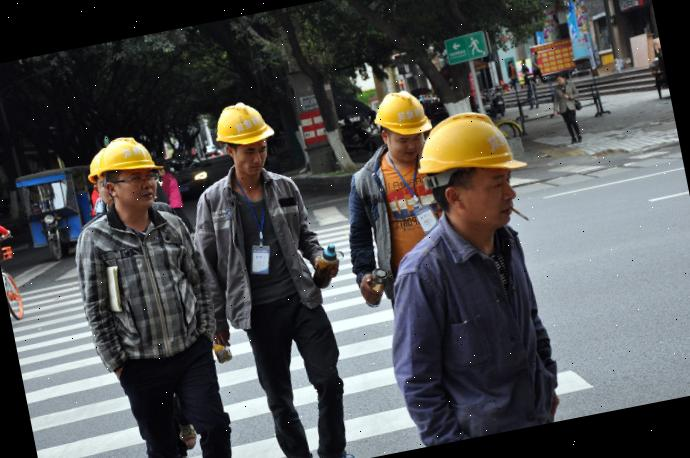helmet: (409, 101, 528, 192), (204, 89, 284, 160), (93, 127, 168, 186), (372, 80, 434, 144), (84, 144, 112, 182)
no_wear: (386, 226, 560, 447), (188, 169, 320, 331), (79, 211, 208, 374), (339, 143, 452, 294)
